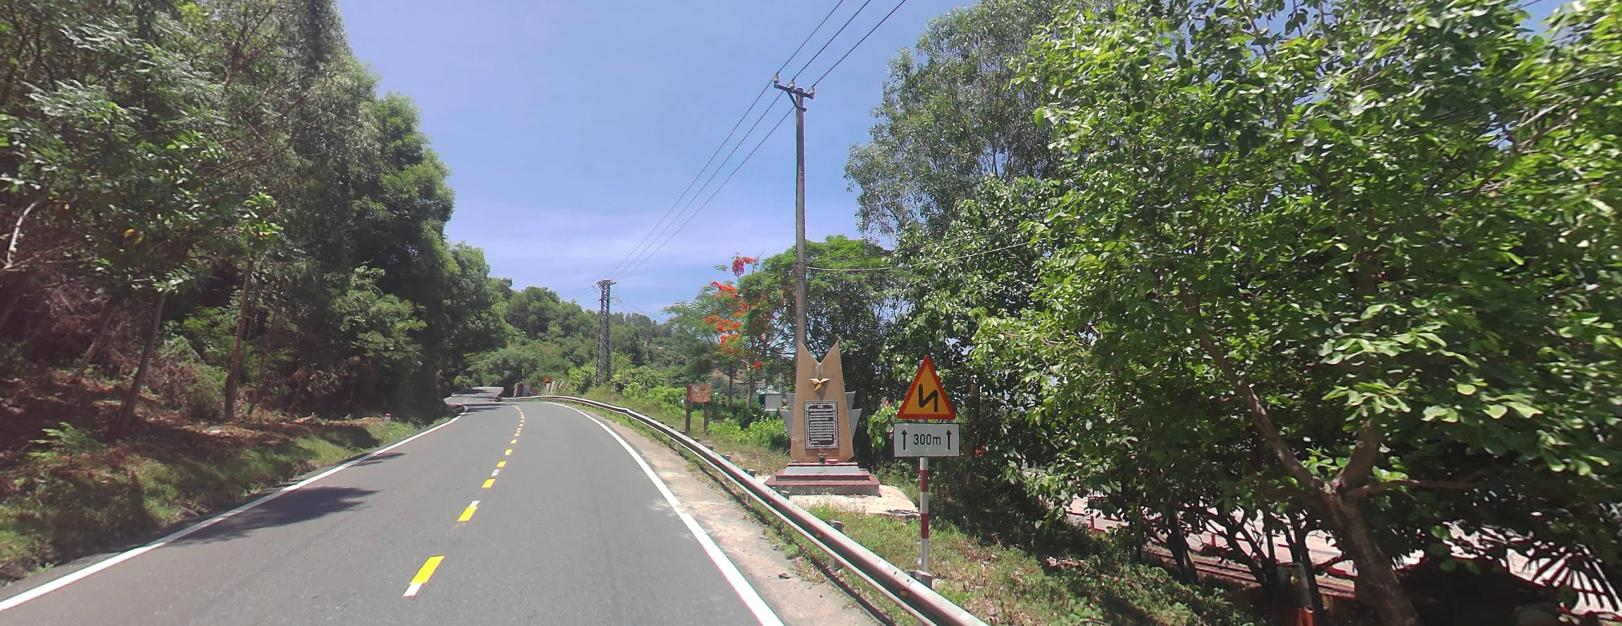Nguy hiem: (893, 354, 965, 427), (542, 374, 550, 382)
